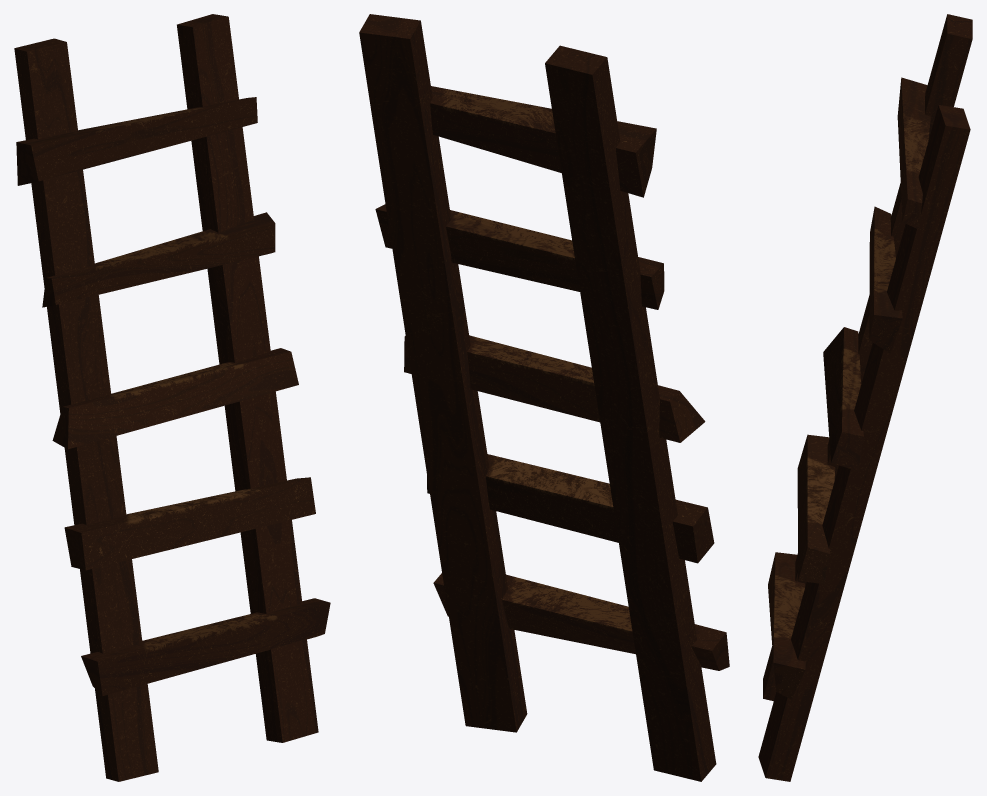
File: Escada.glb
3 views of the same model, side by side, from view 1: azimuth 30°, elevation 25°; view 2: azimuth 150°, elevation 25°; view 3: azimuth 270°, elevation 25° (orthographic). The views are drawn at different scales.
Visible parts, largest first — view 1: escada7; view 2: escada7; view 3: escada7.
Part boxes in pixels (<box>): escada7: <box>14,14,330,781</box>; escada7: <box>359,14,729,781</box>; escada7: <box>758,14,972,781</box>.
Bounding box in the file's own units: 1.01 × 2.71 × 0.7824.
Materials: 7 (7 with a texture image).
